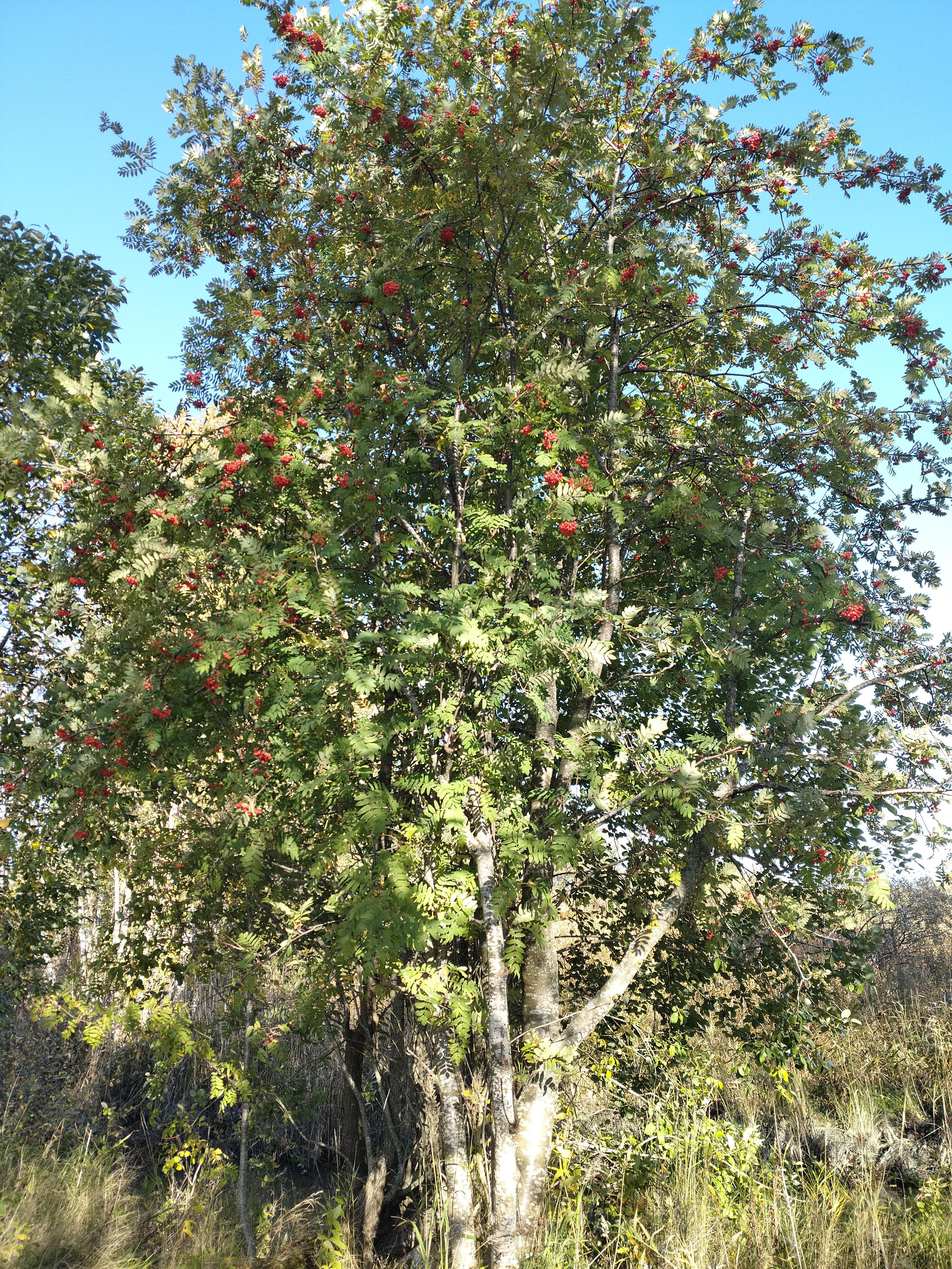Rowan: (71, 3, 925, 1267)
